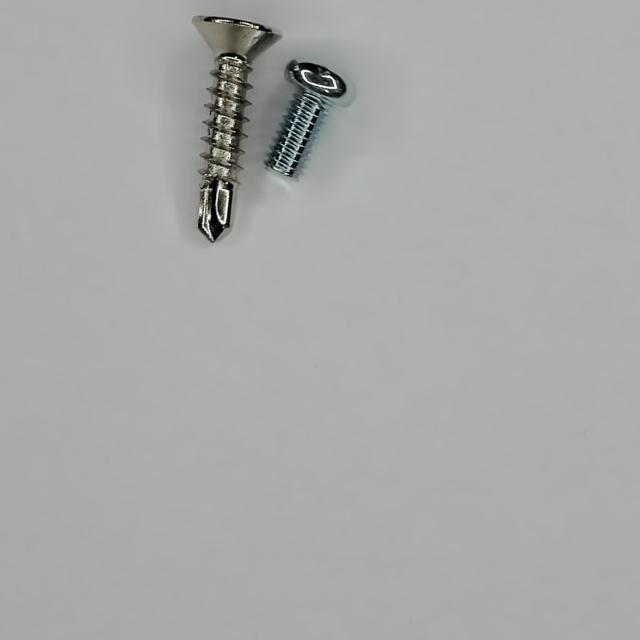Screw: (193, 15, 282, 242), (266, 60, 347, 176)
